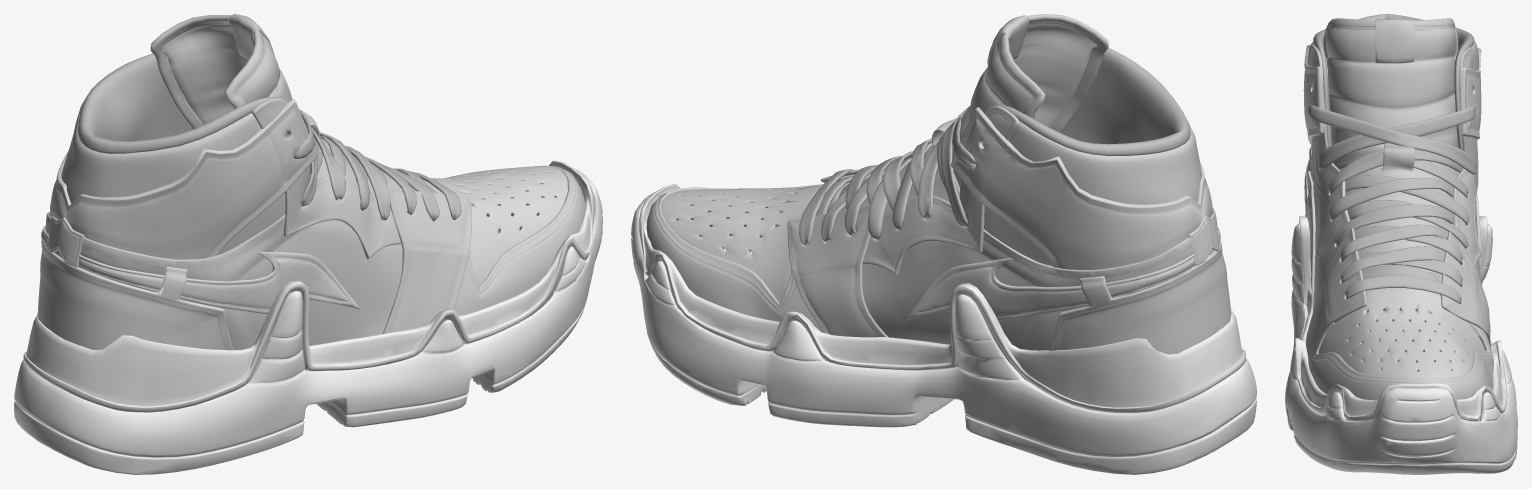
Rendered from rtfkt_creator_one-optimo.glb.
3 views of the same model, side by side, from view 1: azimuth 30°, elevation 25°; view 2: azimuth 150°, elevation 25°; view 3: azimuth 270°, elevation 25° (orthographic). The views are drawn at different scales.
Visible parts, largest first — view 1: Object_2; view 2: Object_2; view 3: Object_2.
Part boxes in pixels (left/top/right/bottom): Object_2: left=14, top=14, right=602, bottom=474; Object_2: left=631, top=14, right=1256, bottom=474; Object_2: left=1285, top=14, right=1517, bottom=474.
Bounding box in the file's own units: 30.93 × 19.58 × 12.02.
Materials: 1 (1 with a texture image).
